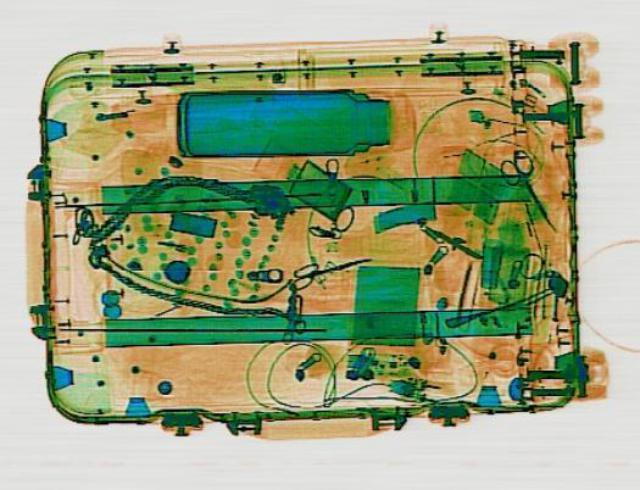Scissors: (486, 145, 574, 234), (280, 245, 376, 287)
